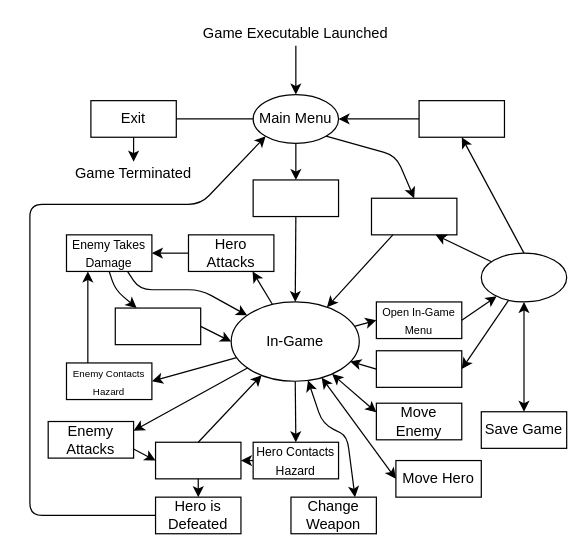
This 588x555 diagram has some shape labels left out. The shapes that lost their labels are listed below. From the top down, each one's centre as x and y in pixels, then its label:
At pixel 461 118: "Exit to Main Menu".
At pixel 295 198: "New Game".
At pixel 413 216: "Load Game".
At pixel 523 277: "In-Game Menu".
At pixel 157 326: "Enemy is Defeated".
At pixel 418 368: "Close In-Game Menu".
At pixel 197 460: "Hero Takes Damage".
